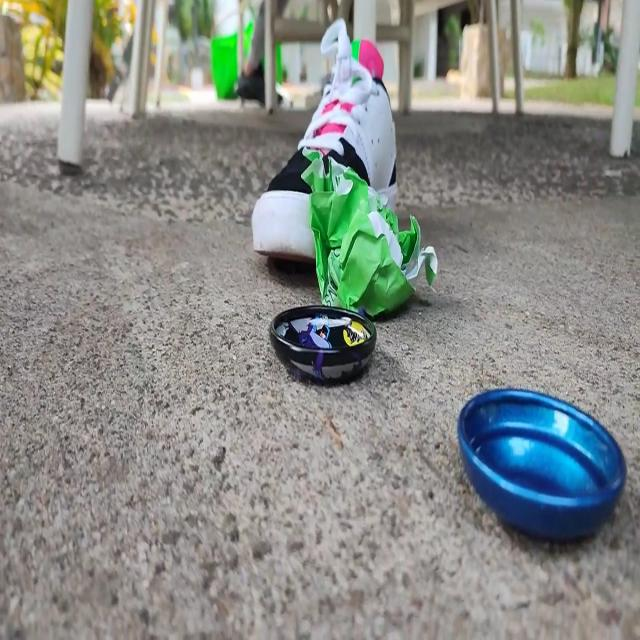paper: (298, 152, 448, 310)
